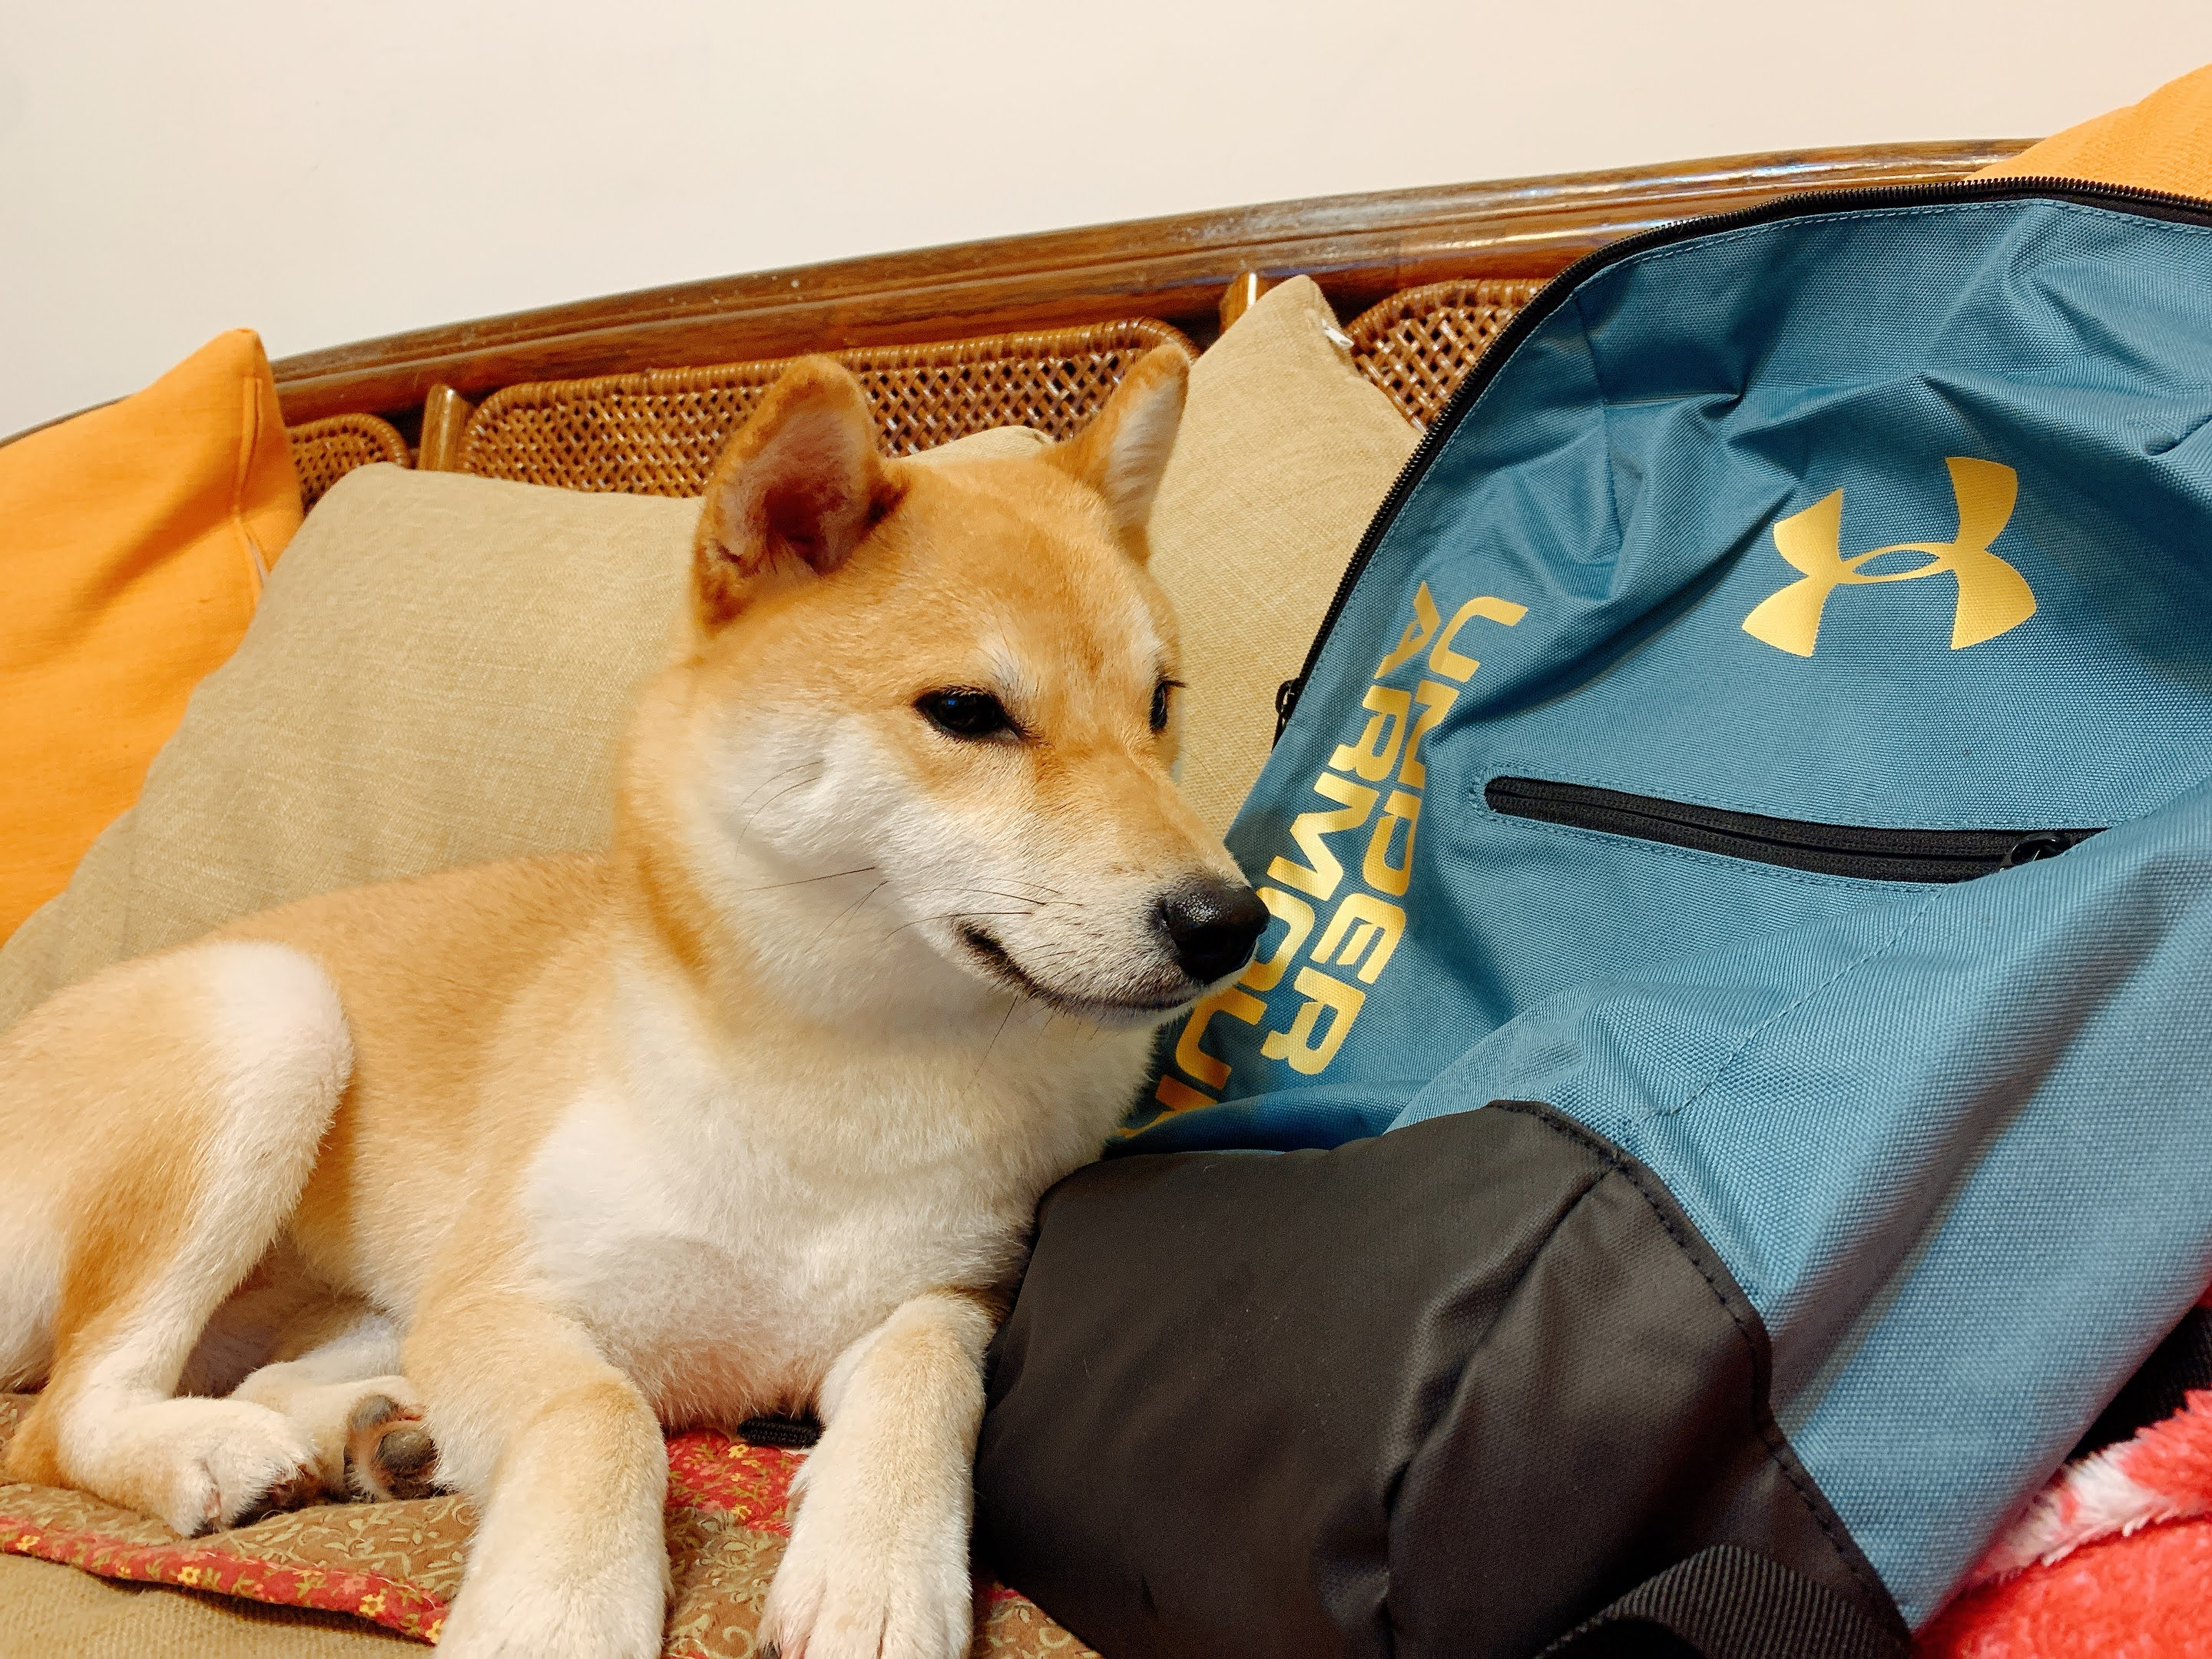Get down: (14, 359, 1317, 1659)
